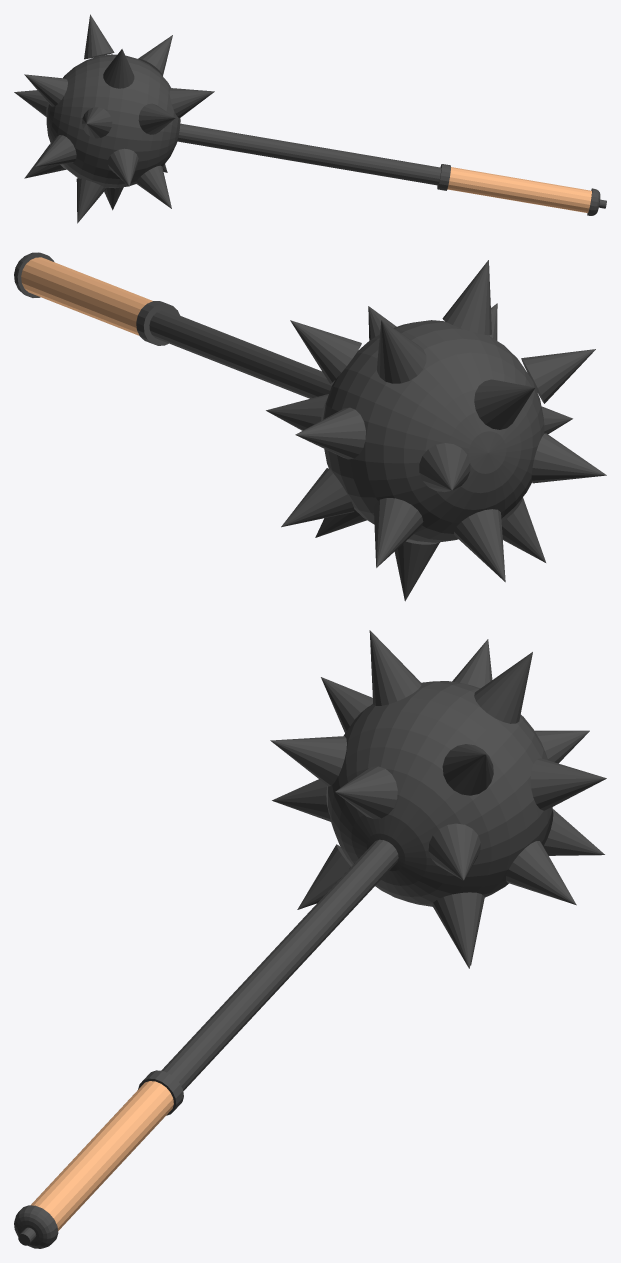
The model's file is 40LBkajLUig.glb.
The picture shows the model from 3 angles, top to bottom: view 1: azimuth 30°, elevation 25°; view 2: azimuth 150°, elevation 25°; view 3: azimuth 270°, elevation 25°; orthographic projection. The views are drawn at different scales.
Parts seen in each view (by area): view 1: Cylinder001; view 2: Cylinder001; view 3: Cylinder001.
Part boxes in pixels (box(x1,y1,x2,y2)): Cylinder001: box(14, 14, 606, 223); Cylinder001: box(14, 252, 606, 601); Cylinder001: box(14, 630, 606, 1248).
Size of the model in its own units: 2.57 by 0.9999 by 1.69.
